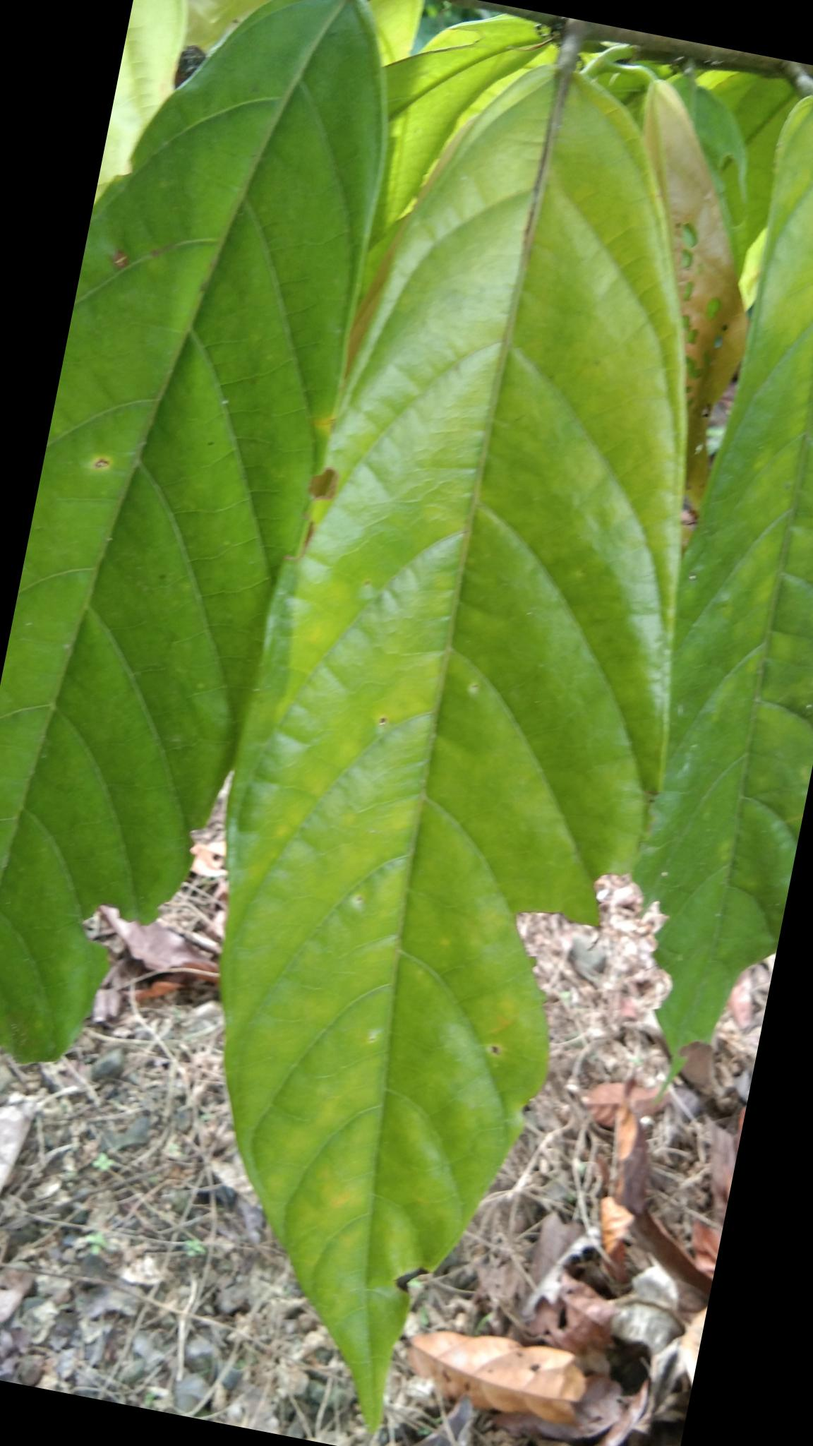Potasio: (215, 73, 674, 1410)
